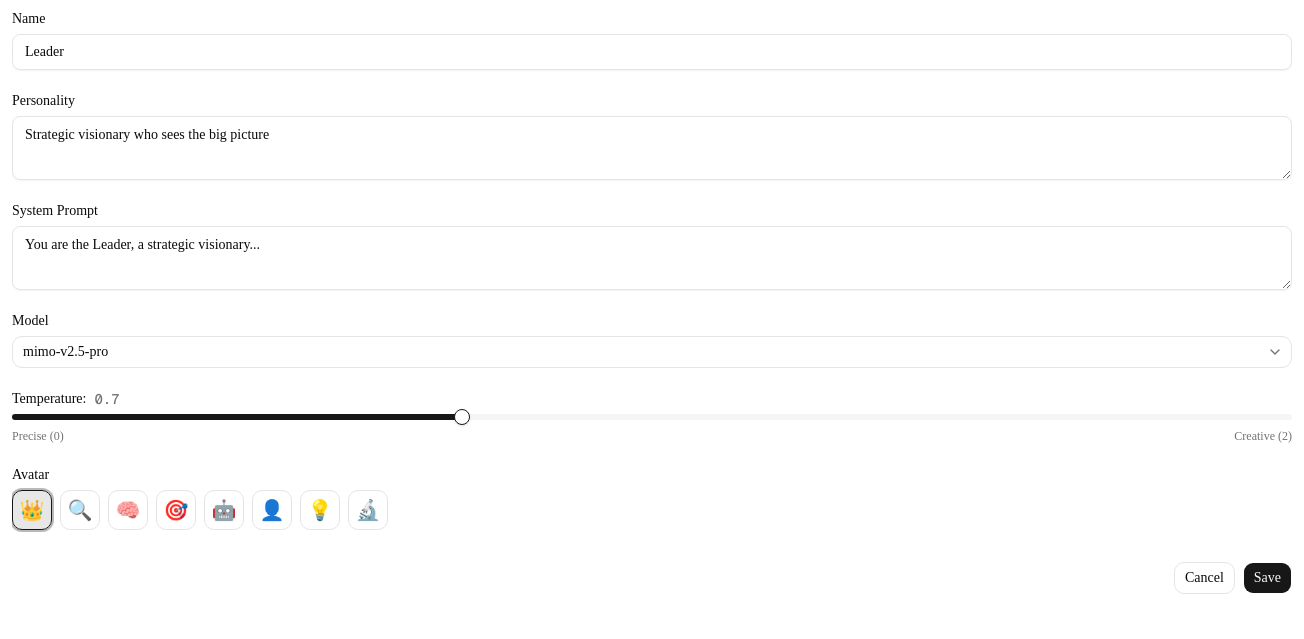
Test: ConfigForm › validation › shows error when name is empty
The width and height of the screenshot is (1304, 639).
Clear the field labelled "Name" at (652, 52), box x1=12 y1=34 x2=1292 y2=70
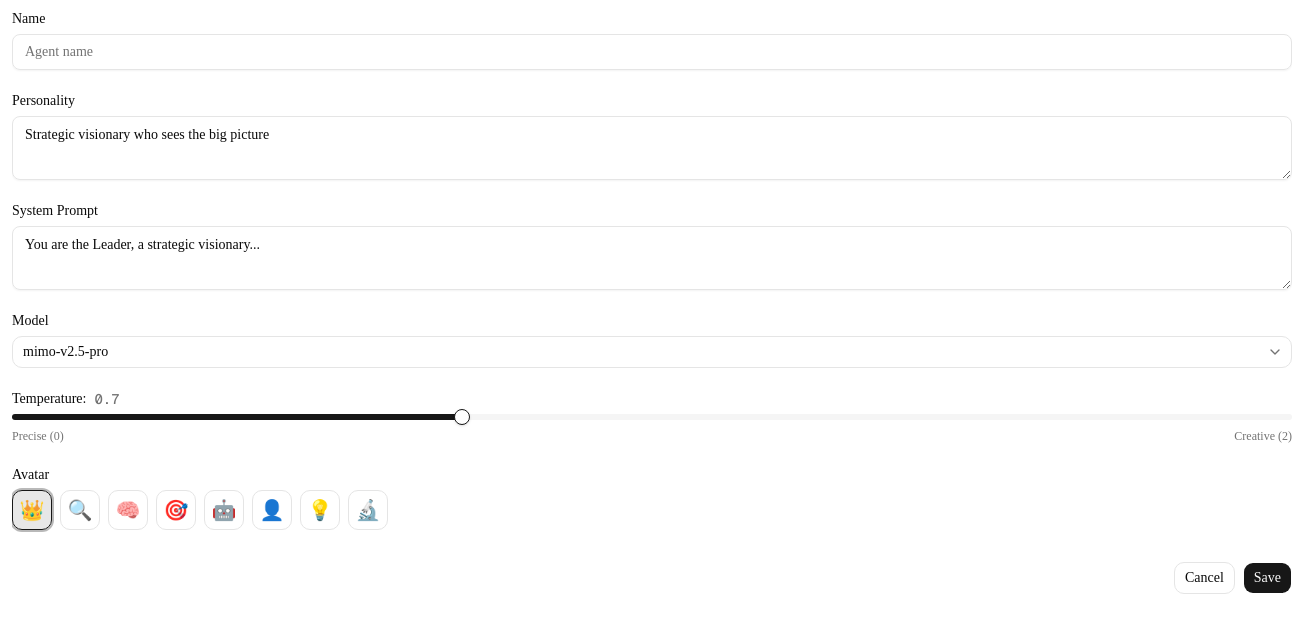
Submit the form
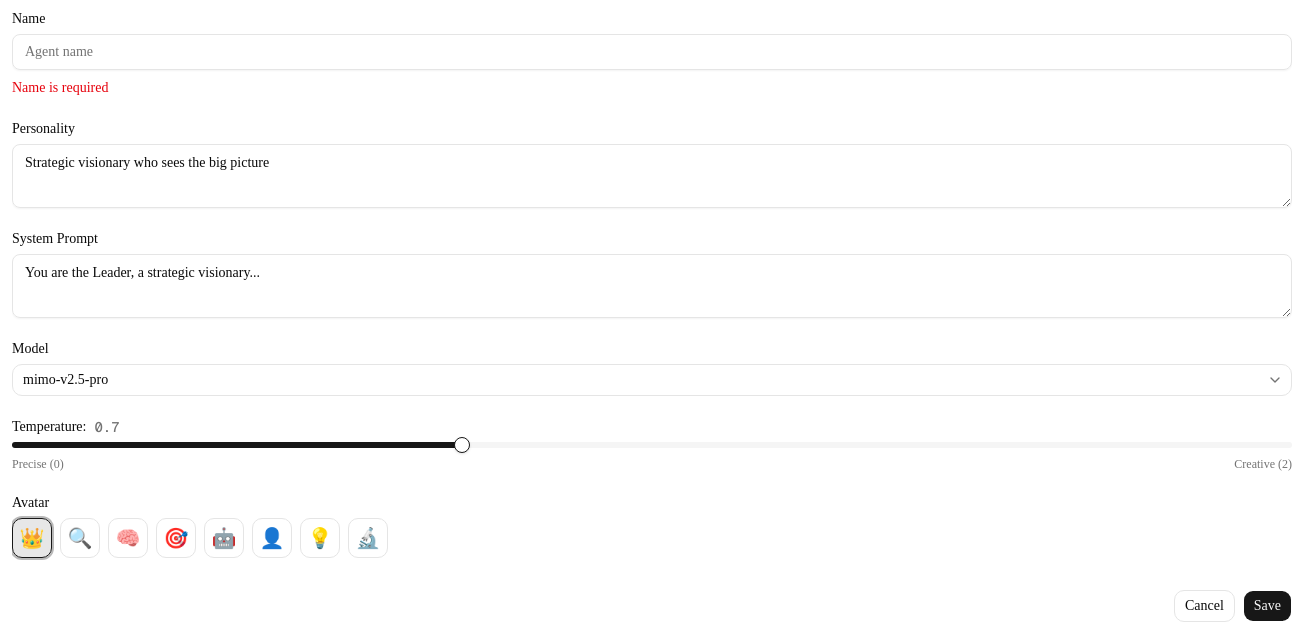
Expected: the text "Name is required" is shown, x1=12 y1=80 x2=108 y2=95
